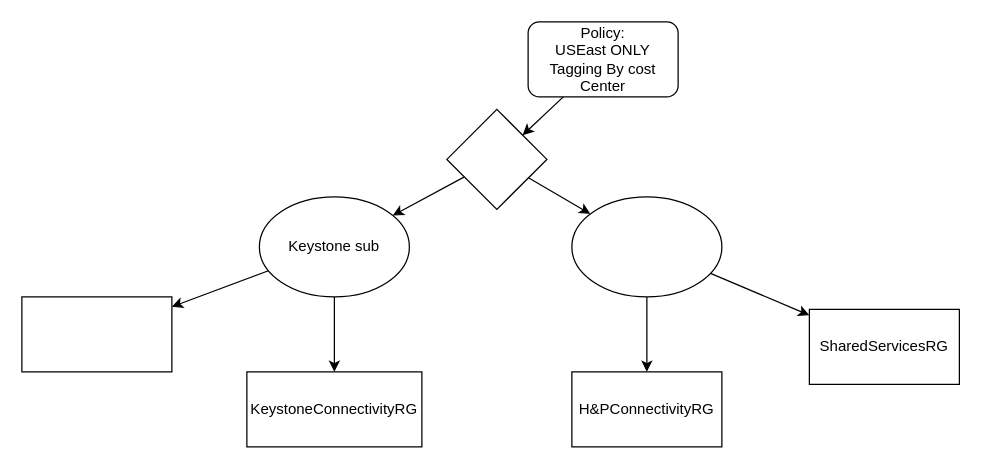
This 981x469 diagram has some shape labels left out. Each missing label, with the box of its shape:
ClaimsAppRG: (21, 296, 172, 372)
H&P Sub: (571, 196, 722, 297)
MG1: (446, 108, 547, 209)
